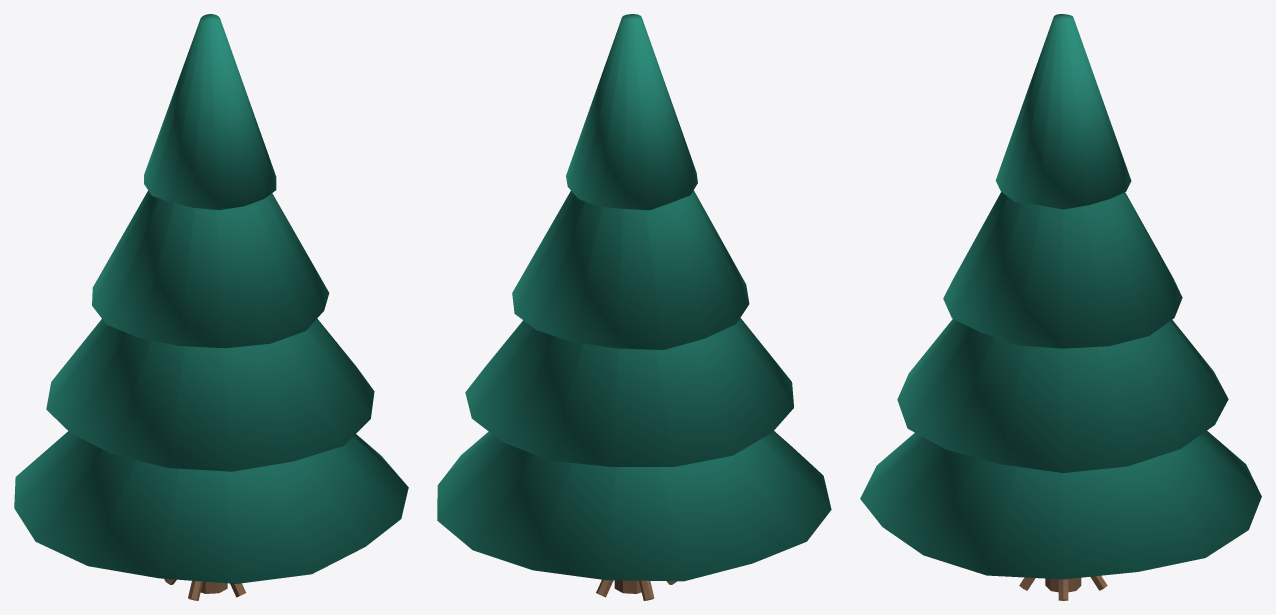
The model's file is tree-fir.glb.
3 views of the same model, side by side, from view 1: azimuth 30°, elevation 25°; view 2: azimuth 150°, elevation 25°; view 3: azimuth 270°, elevation 25° (orthographic).
Visible parts, largest first — view 1: layered fir crown, branch; view 2: layered fir crown, branch; view 3: layered fir crown, branch.
Part boxes in pixels (x1,y1,x2,y2): layered fir crown: (14, 14, 408, 583); branch: (164, 578, 245, 600); layered fir crown: (437, 14, 831, 581); branch: (596, 579, 676, 600); layered fir crown: (860, 14, 1261, 579); branch: (1019, 575, 1107, 600).
Size of the model in its own units: 2 by 3.14 by 2.01.
